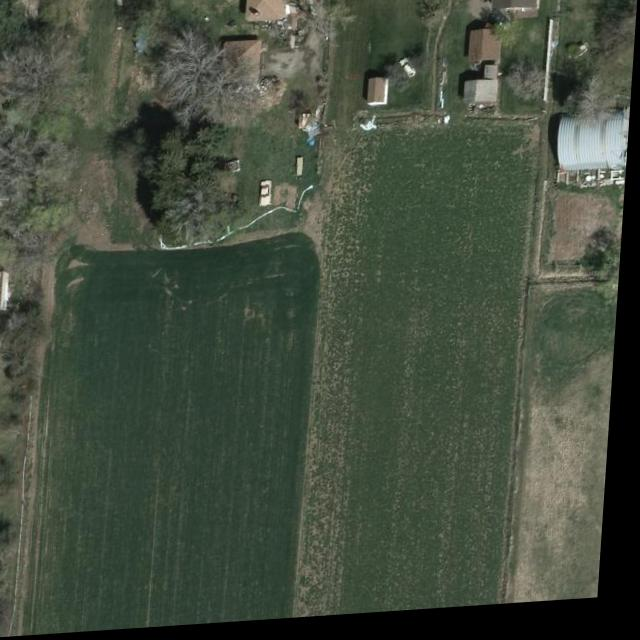vehicle: (487, 16, 518, 42), (399, 61, 422, 87), (262, 184, 275, 211)
